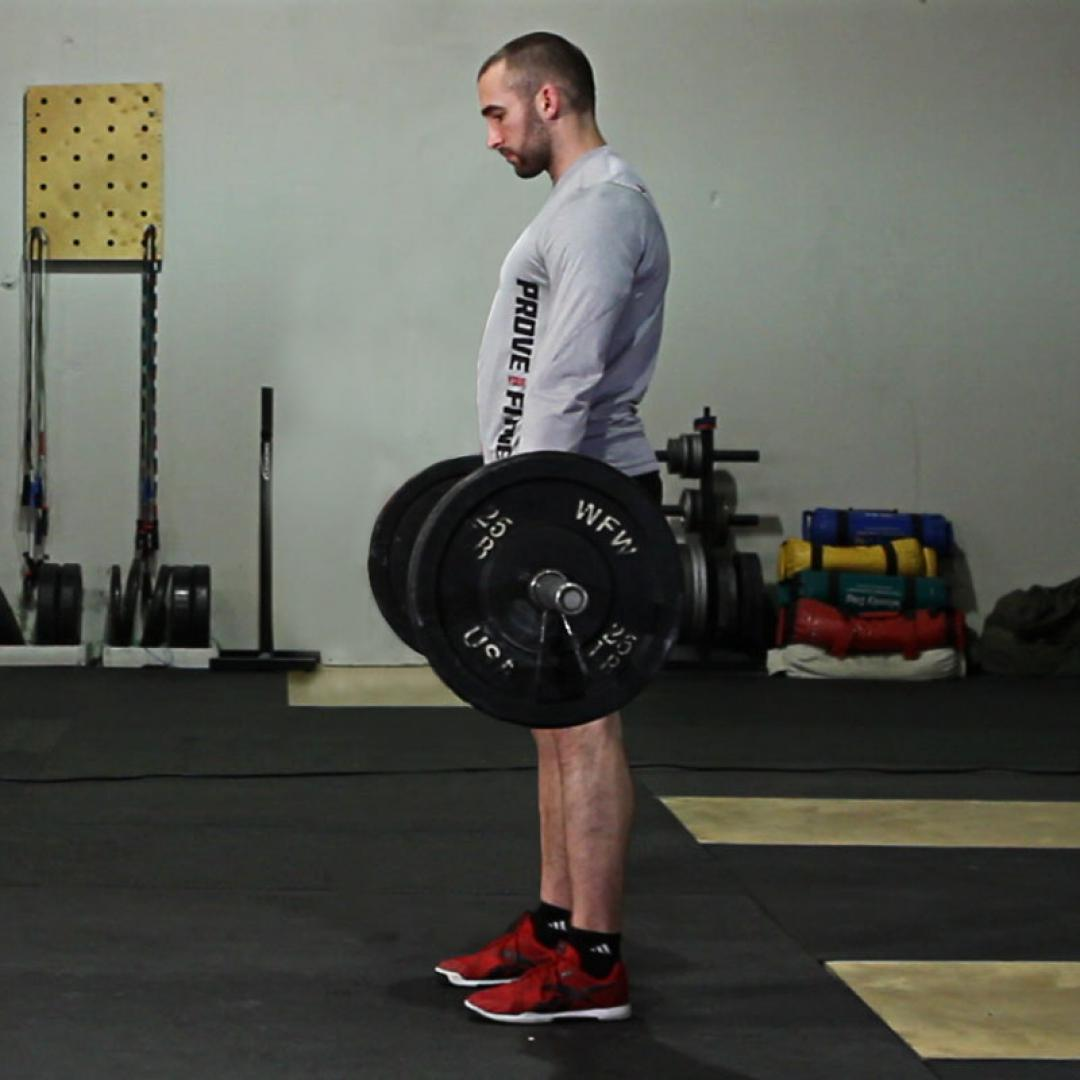Bar: (554, 579, 592, 617)
Barbell: (406, 448, 682, 729)
